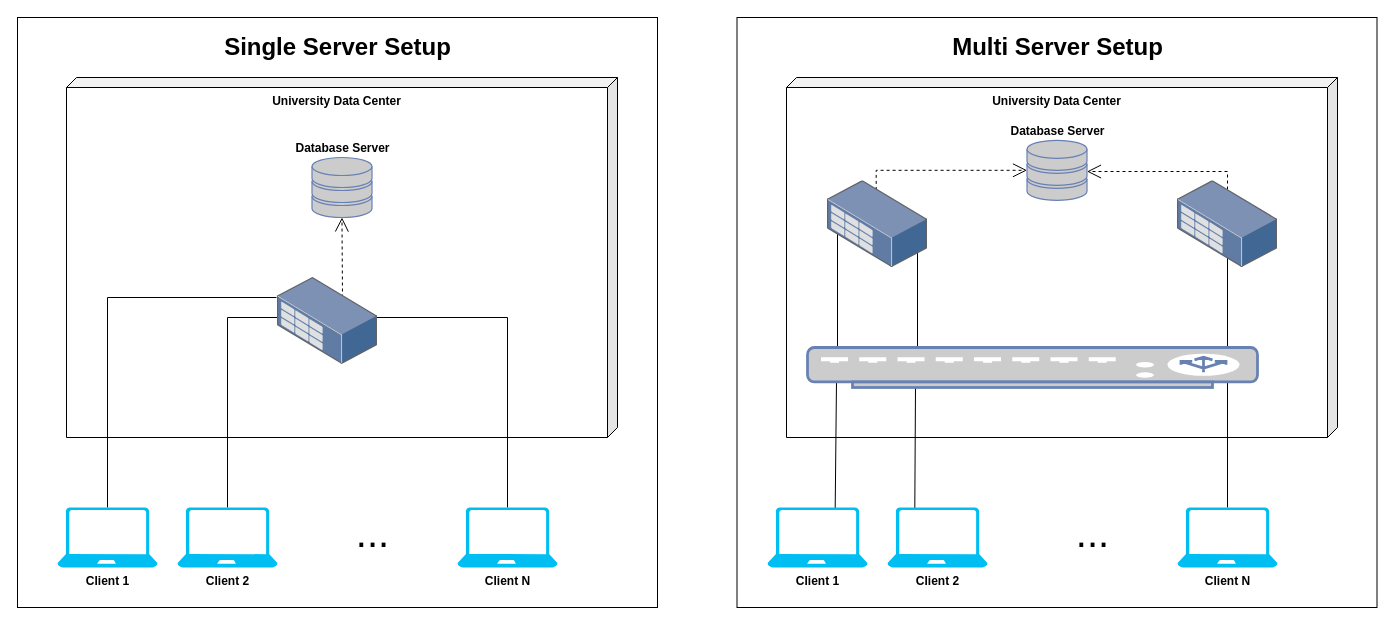
Image size: 1395x625. Some labels were removed from this diagram. The centre of each missing label's shape, as x and y in pixels:
"Artemis Application Server" goes at [327,320].
"Artemis Application Server 1" goes at [877,223].
"Artemis Application Server 2...N" goes at [1227,223].
"Load Balancer" goes at [1032,367].
